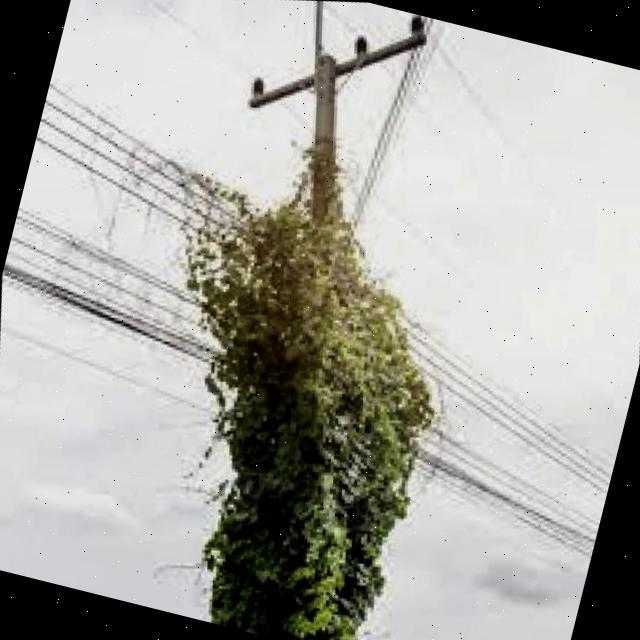critical vegetation: (11, 17, 556, 640)
